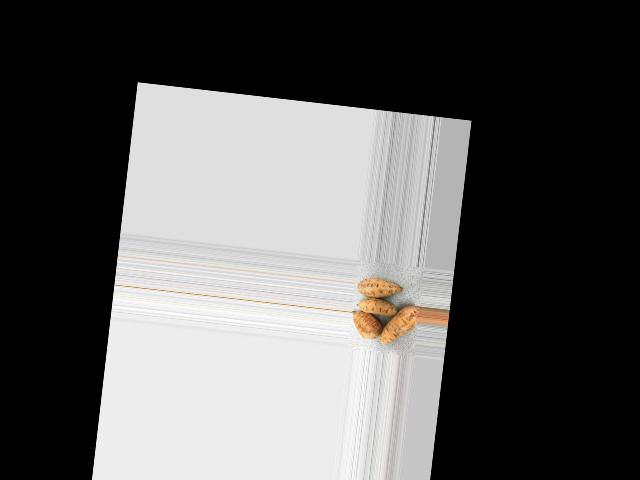sweet_potato: (379, 297, 420, 351)
